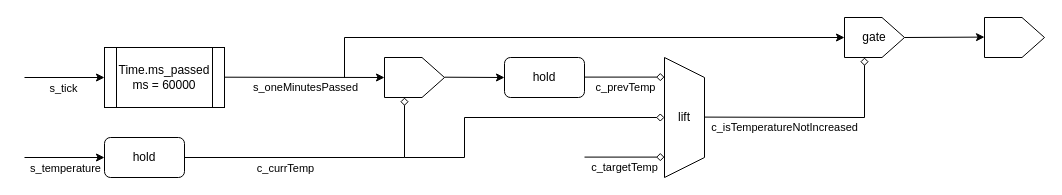
Image size: 1062x195. Some labels were removed from this diagram. The shapes that lost their labels are listed below. From the top down, each one's box as (x1, y1, x2, y2) in pixels, then its label:
(984, 16, 1044, 58): map
(384, 56, 444, 98): snapshot
